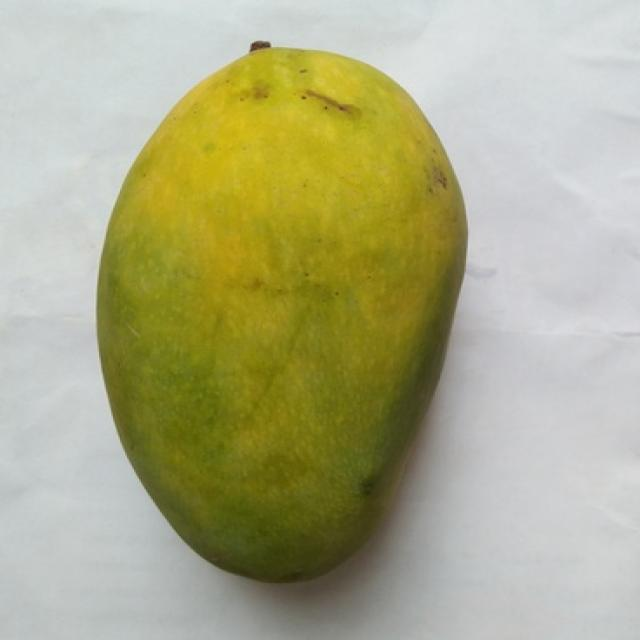Mango: (97, 46, 466, 582)
